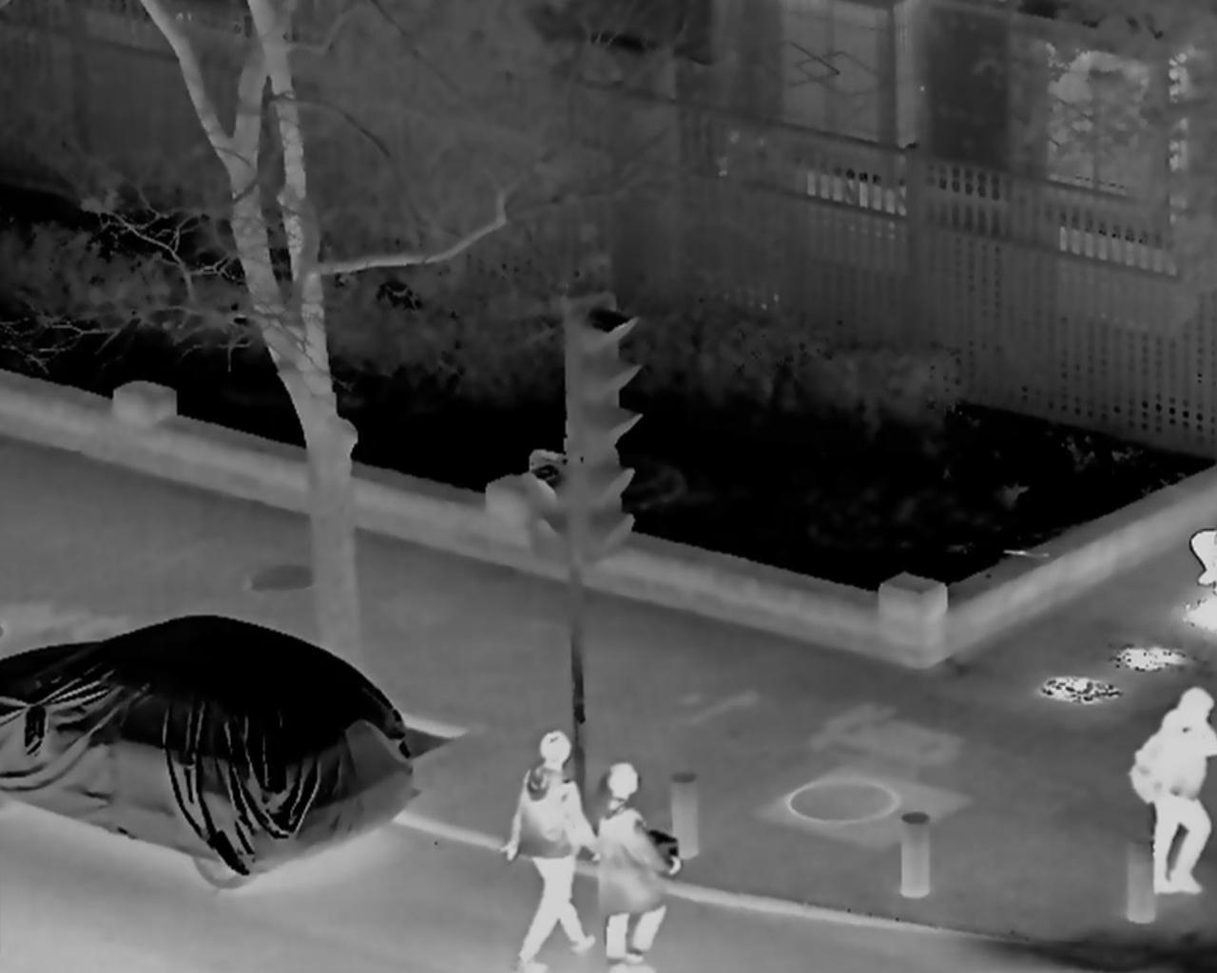person: (502, 728, 594, 973), (1127, 686, 1217, 892), (590, 760, 677, 973)
